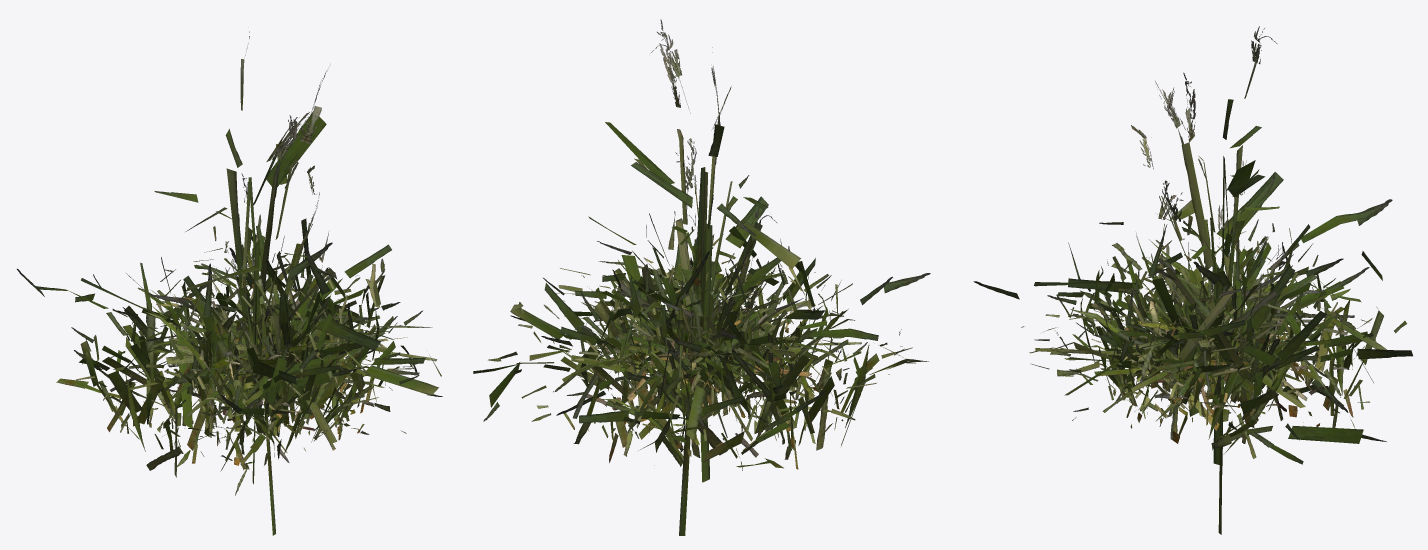
The model's file is grass_medium_01.glb.
3 views of the same model, side by side, from view 1: azimuth 30°, elevation 25°; view 2: azimuth 150°, elevation 25°; view 3: azimuth 270°, elevation 25° (orthographic). The views are drawn at different scales.
Visible parts, largest first — view 1: grass_medium_01_large_a_LOD0 (×2), grass_medium_01_large_c_LOD0 (×2), grass_medium_01_large_b_LOD0 (×2), grass_medium_01_mid_a_LOD0 (×2), grass_medium_01_tall_a_LOD0 (×2), grass_medium_01_tall_b_LOD0 (×2); view 2: grass_medium_01_large_a_LOD0 (×2), grass_medium_01_large_c_LOD0 (×2), grass_medium_01_large_b_LOD0 (×2), grass_medium_01_mid_a_LOD0 (×2), grass_medium_01_tall_b_LOD0 (×2), grass_medium_01_tall_a_LOD0 (×2); view 3: grass_medium_01_large_a_LOD0 (×2), grass_medium_01_large_c_LOD0 (×2), grass_medium_01_large_b_LOD0 (×2), grass_medium_01_mid_a_LOD0 (×2), grass_medium_01_tall_a_LOD0 (×2), grass_medium_01_tall_b_LOD0 (×2).
Part boxes in pixels (x1=…): grass_medium_01_large_a_LOD0 (×2): x1=17, y1=218, x2=432, y2=495; grass_medium_01_large_c_LOD0 (×2): x1=110, y1=234, x2=442, y2=462; grass_medium_01_large_b_LOD0 (×2): x1=109, y1=225, x2=441, y2=450; grass_medium_01_mid_a_LOD0 (×2): x1=147, y1=173, x2=419, y2=436; grass_medium_01_tall_a_LOD0 (×2): x1=154, y1=31, x2=329, y2=484; grass_medium_01_tall_b_LOD0 (×2): x1=185, y1=70, x2=327, y2=535; grass_medium_01_large_a_LOD0 (×2): x1=473, y1=211, x2=930, y2=470; grass_medium_01_large_c_LOD0 (×2): x1=498, y1=196, x2=878, y2=457; grass_medium_01_large_b_LOD0 (×2): x1=488, y1=234, x2=861, y2=438; grass_medium_01_mid_a_LOD0 (×2): x1=587, y1=138, x2=820, y2=428; grass_medium_01_tall_b_LOD0 (×2): x1=631, y1=19, x2=805, y2=535; grass_medium_01_tall_a_LOD0 (×2): x1=600, y1=34, x2=768, y2=482; grass_medium_01_large_a_LOD0 (×2): x1=973, y1=172, x2=1412, y2=464; grass_medium_01_large_c_LOD0 (×2): x1=1034, y1=219, x2=1352, y2=440; grass_medium_01_large_b_LOD0 (×2): x1=1029, y1=219, x2=1386, y2=439; grass_medium_01_mid_a_LOD0 (×2): x1=1094, y1=161, x2=1348, y2=416; grass_medium_01_tall_a_LOD0 (×2): x1=1099, y1=26, x2=1305, y2=465; grass_medium_01_tall_b_LOD0 (×2): x1=1131, y1=72, x2=1292, y2=534.
Bounding box in the file's own units: 0.2998 × 0.4121 × 0.3225.
1 material, 1 textured.
